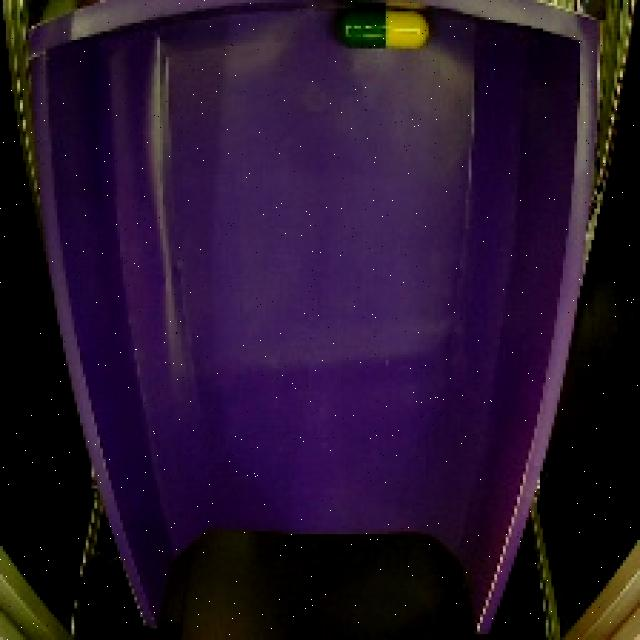small: (327, 3, 439, 56)
